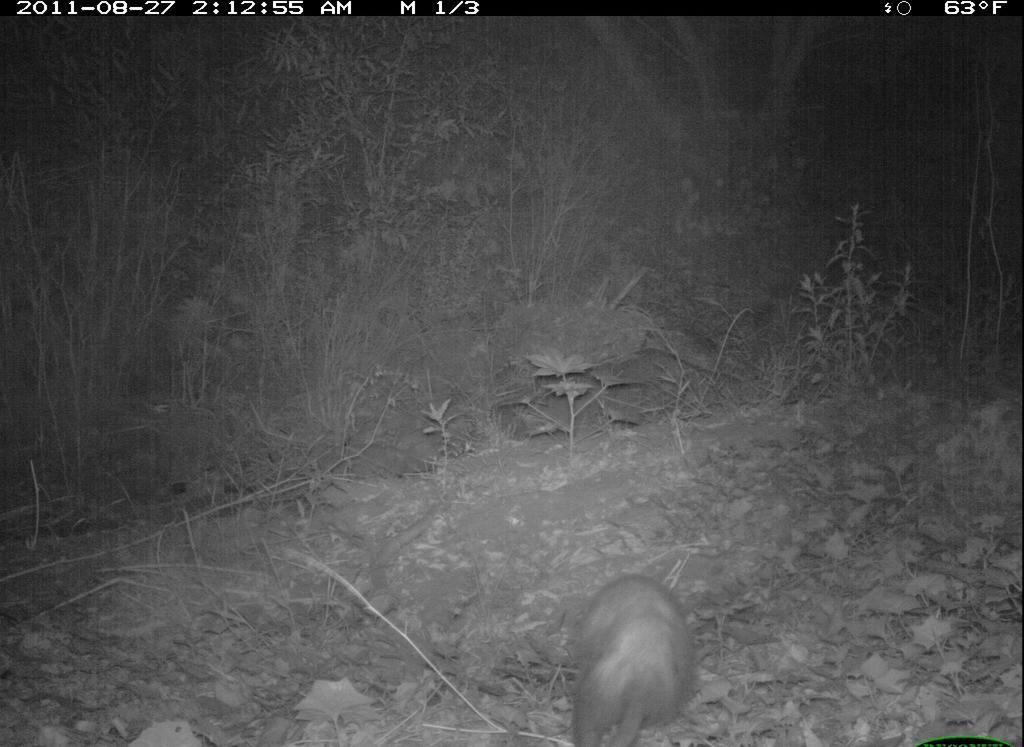opossum: (557, 553, 712, 747)
